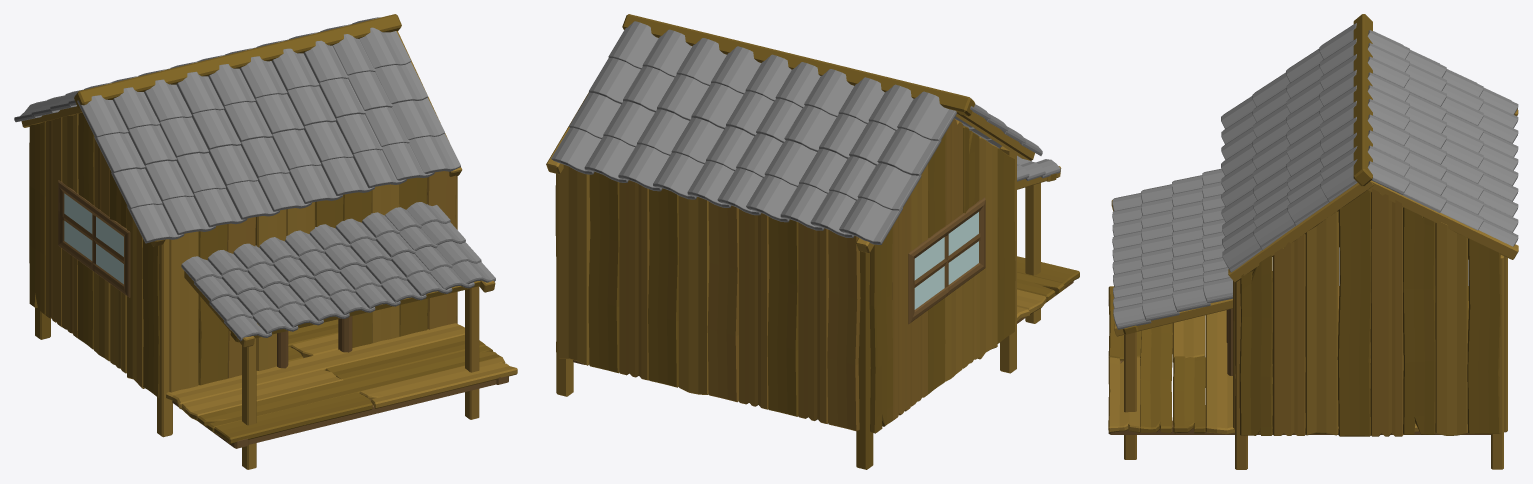
The model's file is Casa.fbx.
The picture shows the model from 3 angles, left to right: view 1: azimuth 30°, elevation 25°; view 2: azimuth 150°, elevation 25°; view 3: azimuth 270°, elevation 25°; orthographic projection. The views are drawn at different scales.
Visible parts, largest first — view 1: base, estrutura; view 2: estrutura, base; view 3: base, estrutura.
Part boxes in pixels (x1=…): base: x1=14, y1=14, x2=508, y2=469; estrutura: x1=29, y1=112, x2=517, y2=444; estrutura: x1=555, y1=118, x2=1079, y2=433; base: x1=546, y1=14, x2=1073, y2=469; base: x1=1108, y1=14, x2=1518, y2=469; estrutura: x1=1108, y1=188, x2=1507, y2=436.
Bounding box in the file's own units: 598 × 550 × 661.
